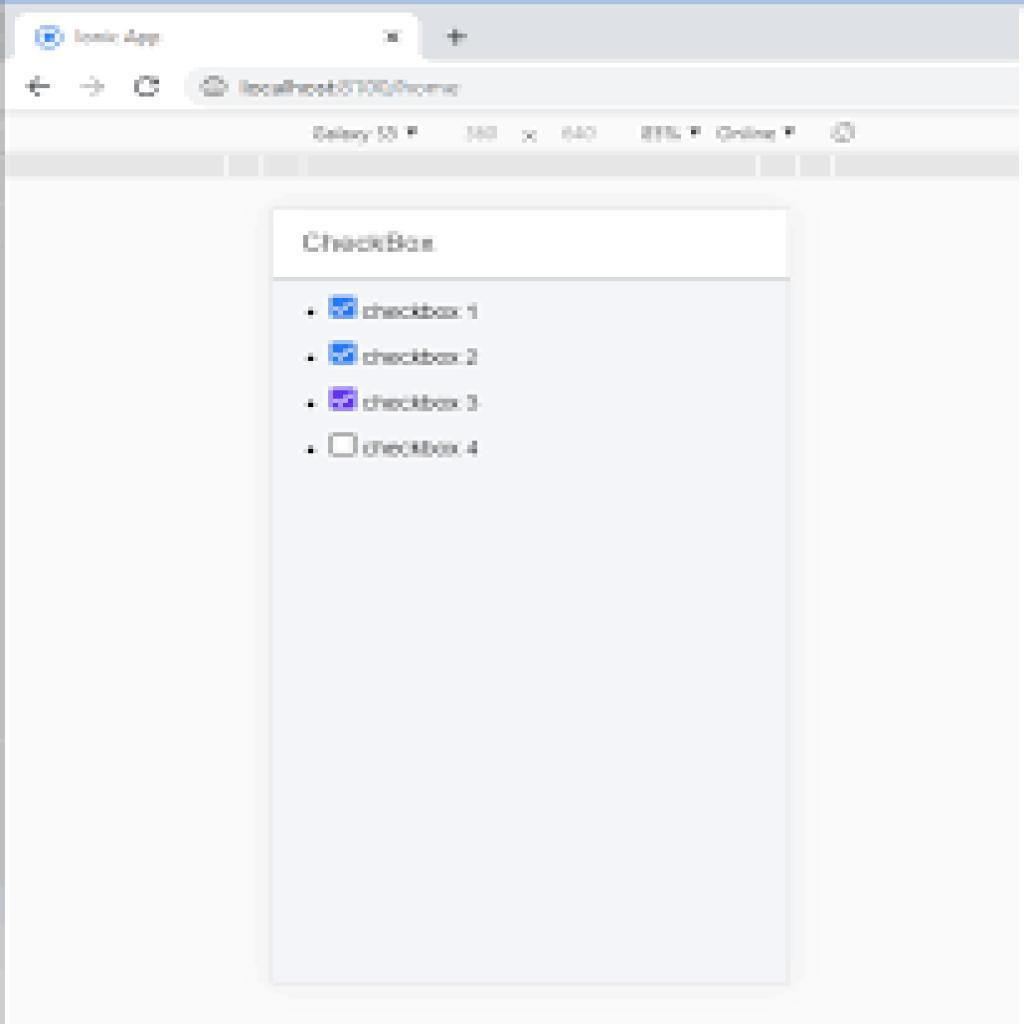checkbox: (328, 296, 361, 322), (330, 386, 361, 413), (329, 339, 359, 366), (329, 431, 358, 458)
